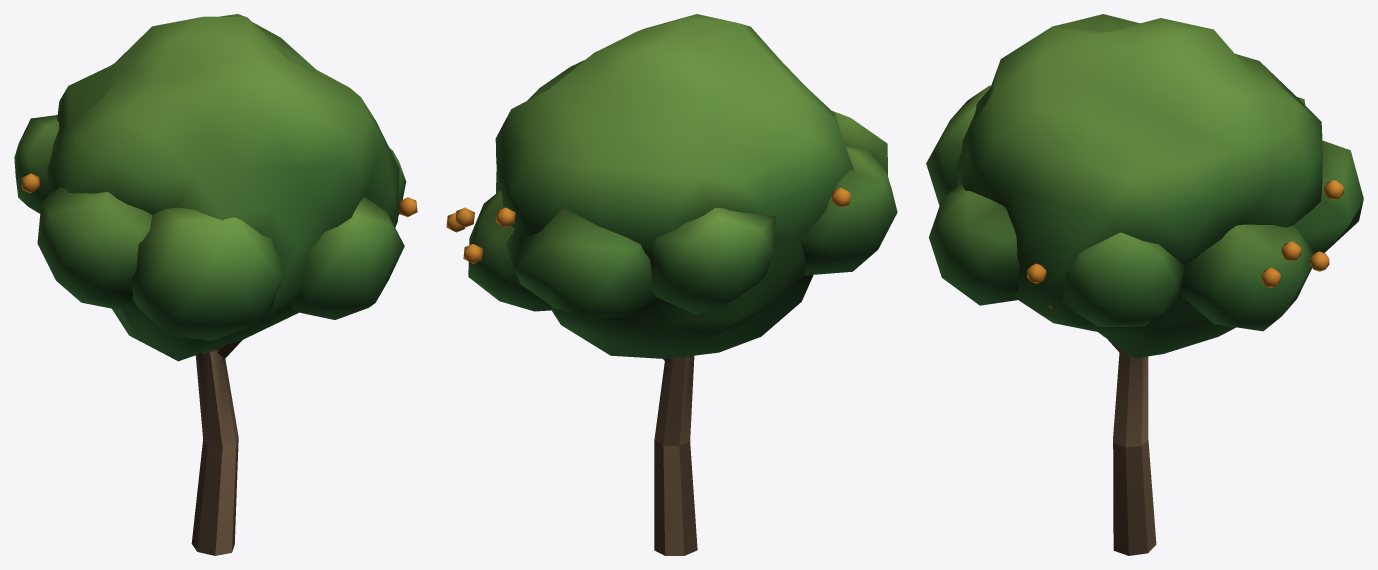
File: orange_tree.glb
3 renders of one model, left to right at view 1: azimuth 30°, elevation 25°; view 2: azimuth 150°, elevation 25°; view 3: azimuth 270°, elevation 25°, orthographic.
Parts seen in each view (by area): view 1: orange_tree_mesh; view 2: orange_tree_mesh; view 3: orange_tree_mesh.
Boxes of the visible parts, x1,y1,x2,y2 form: orange_tree_mesh: (14, 14, 417, 555); orange_tree_mesh: (446, 14, 897, 555); orange_tree_mesh: (926, 14, 1363, 555).
Bounding box in the file's own units: 3.19 × 4.32 × 3.3.
